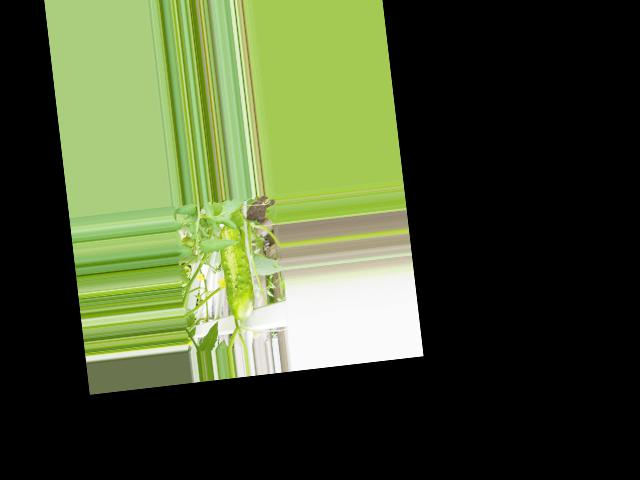cucumber: (218, 224, 256, 322)
